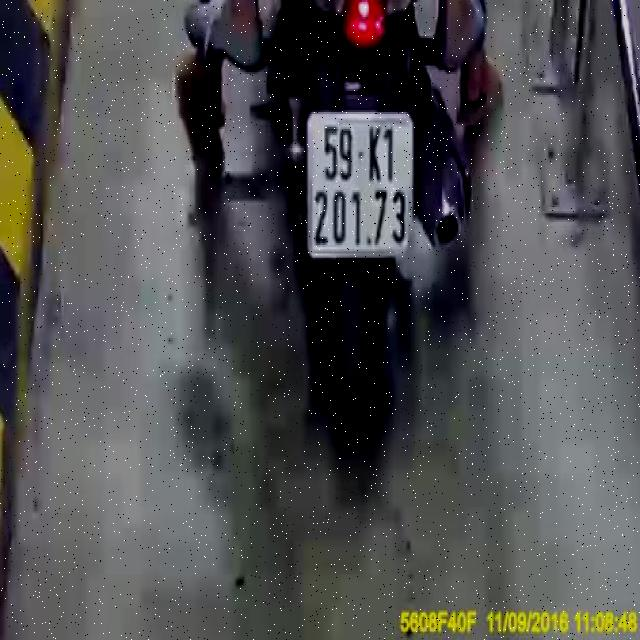0: (331, 191, 349, 246)
1: (349, 189, 364, 248)
2: (314, 187, 331, 246)
3: (391, 188, 407, 245)
5: (323, 123, 339, 179)
7: (373, 189, 387, 246)
9: (338, 124, 355, 181)
K: (380, 124, 398, 180), (367, 123, 383, 183)
